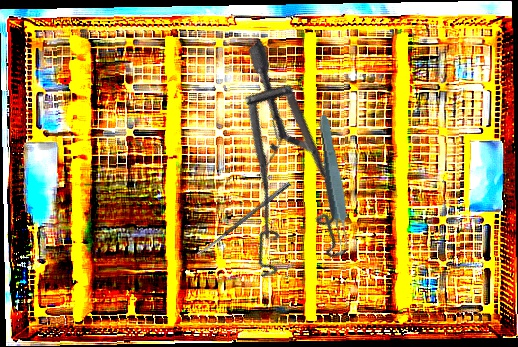Speculum: (144, 39, 401, 304)
Surgical Spoon: (194, 181, 292, 258)
Tissue Forceps: (314, 113, 353, 251)
